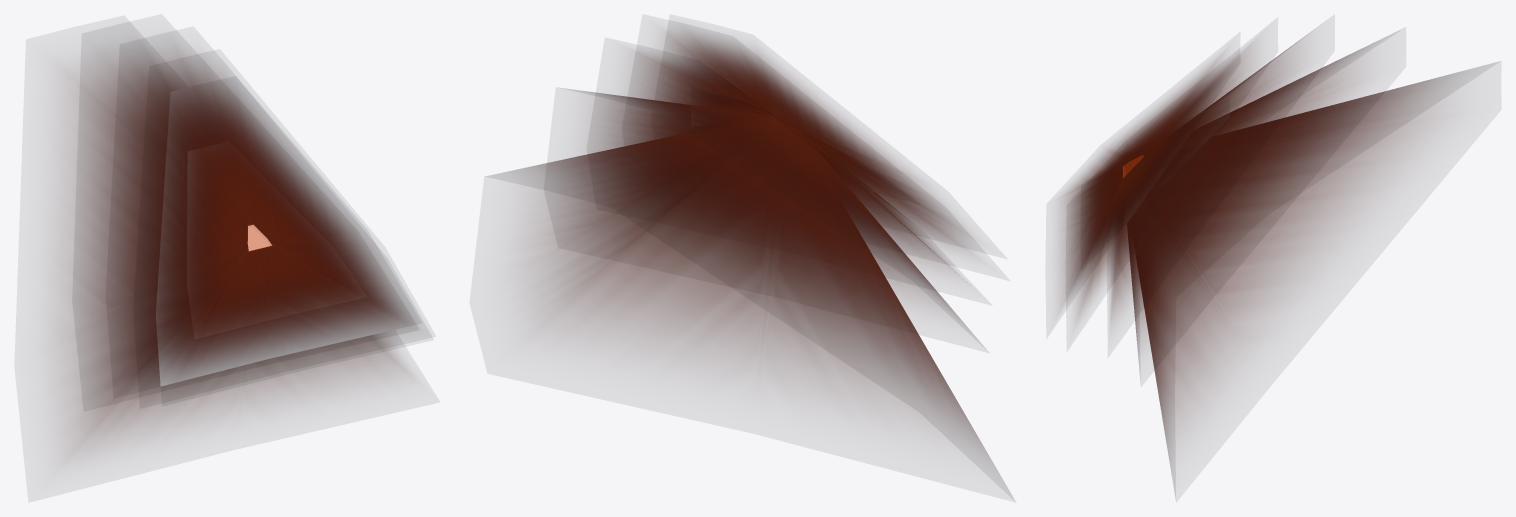
The model's file is motorbike_stoplight_ON.gltf.
3 renders of one model, left to right at view 1: azimuth 30°, elevation 25°; view 2: azimuth 150°, elevation 25°; view 3: azimuth 270°, elevation 25°, orthographic. The views are drawn at different scales.
Parts seen in each view (by area): view 1: stoplight.ON; view 2: stoplight.ON; view 3: stoplight.ON.
Boxes of the visible parts, x1,y1,x2,y2 form: stoplight.ON: (44, 22, 431, 470); stoplight.ON: (486, 20, 1014, 500); stoplight.ON: (1055, 27, 1498, 496).
Bounding box in the file's own units: 1.87 × 1.56 × 1.75.
Materials: 1 (1 with a texture image).
